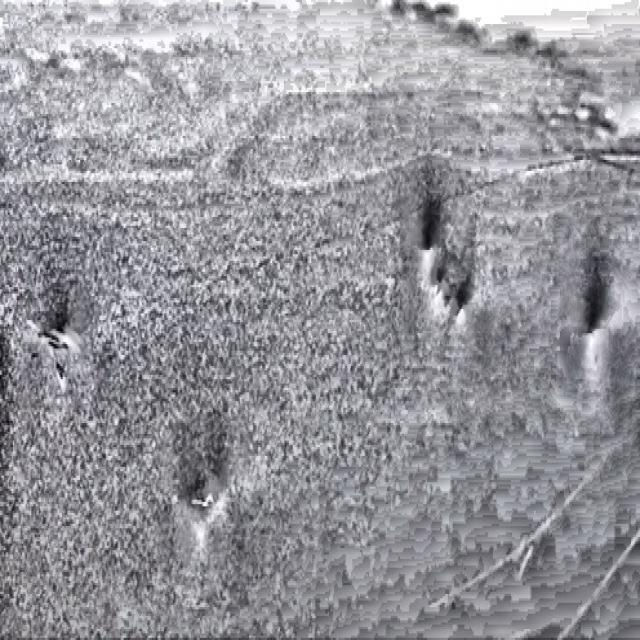dent: (148, 408, 252, 548), (416, 184, 482, 331), (579, 246, 639, 350)
